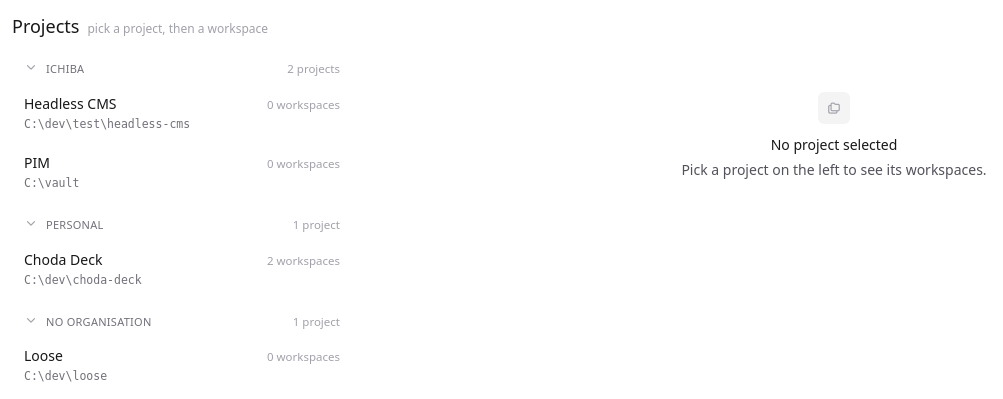
Test: ProjectsView — grouped by org (TASK-2200) › collapses and expands a group, hiding only that group's rows
The image size is (1003, 399).
Click the button with test id "project-group-toggle-ichiba" at {"x": 65, "y": 68}, box [12,56,352,82]
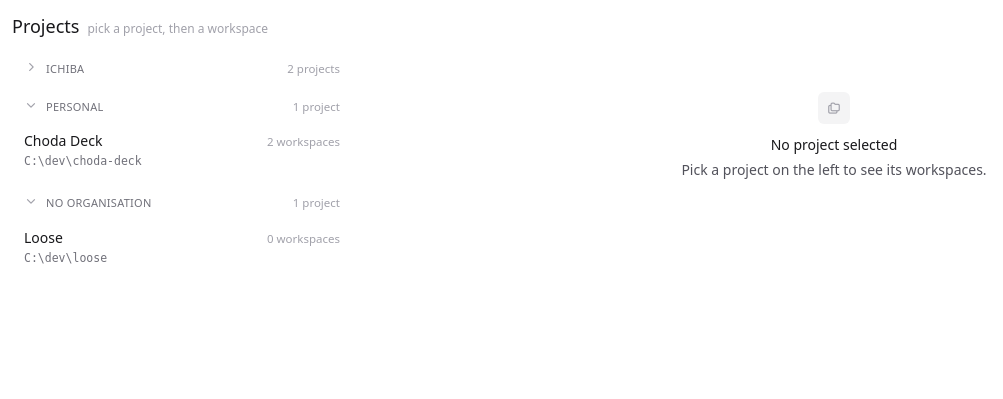
Now the button with test id "project-group-toggle-ichiba" is collapsed
Click the button with test id "project-group-toggle-ichiba" at {"x": 65, "y": 68}, box [12,56,352,82]
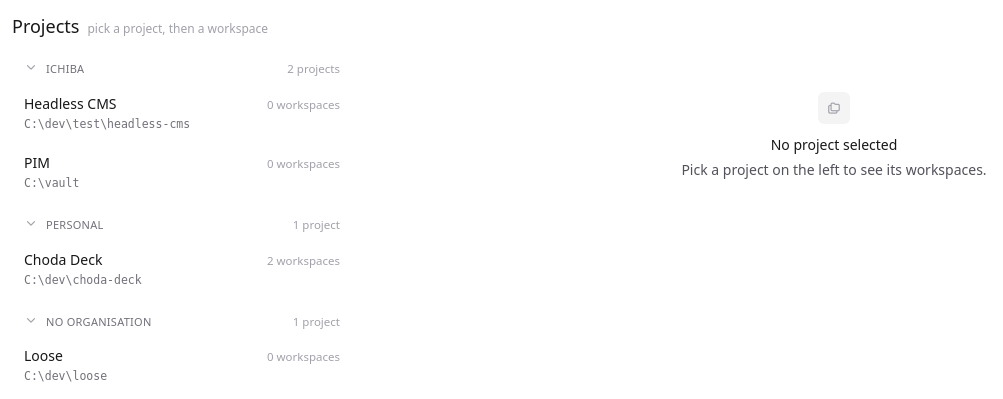
Now the button with test id "project-group-toggle-ichiba" is expanded, box [12,56,352,82]
